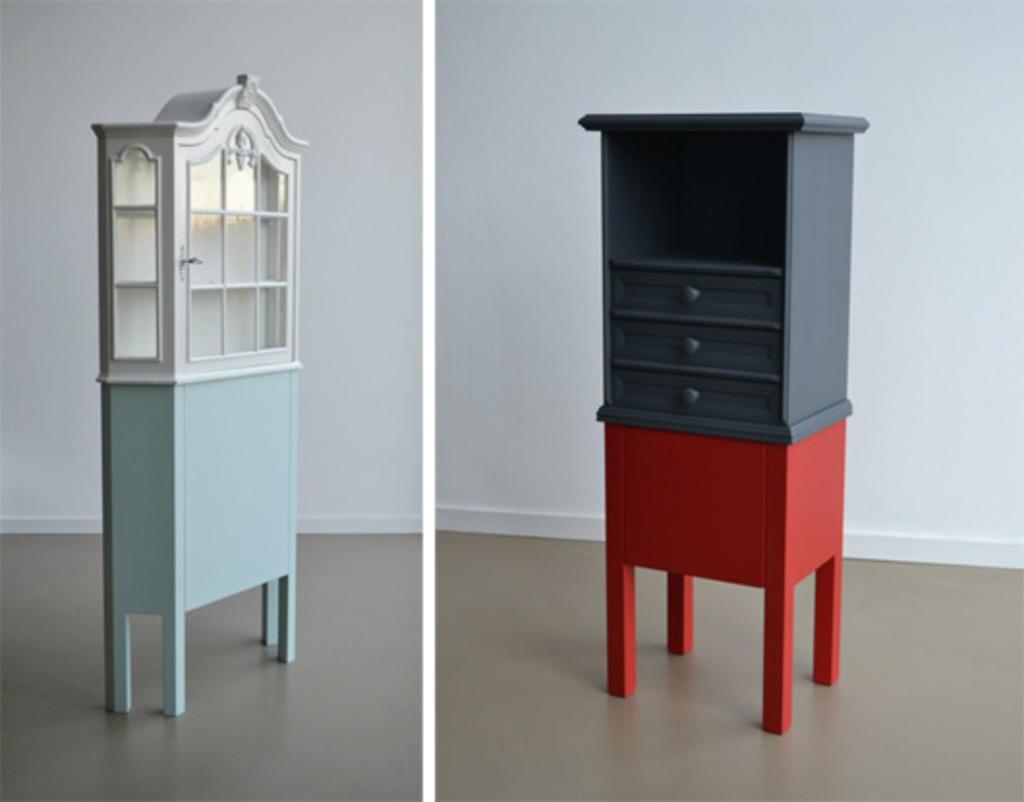cabinet door: (182, 175, 290, 352), (635, 375, 766, 422), (628, 270, 761, 316), (641, 325, 766, 366)
handle: (676, 285, 700, 309), (680, 335, 701, 360), (681, 381, 701, 403), (178, 251, 200, 268)
